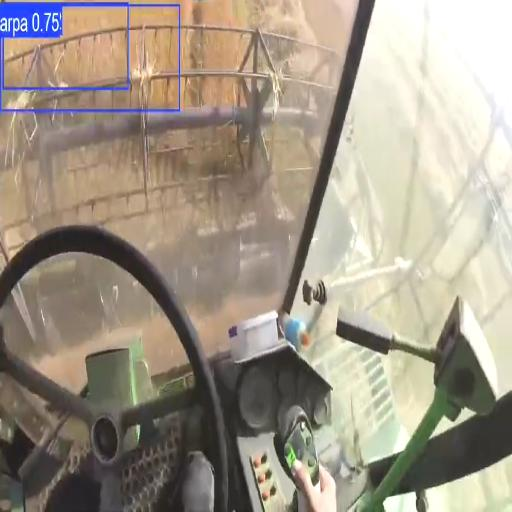arpa: (42, 29, 126, 86), (179, 27, 229, 70), (65, 7, 123, 36), (171, 0, 229, 25), (147, 28, 177, 70), (130, 7, 178, 27), (6, 54, 27, 85), (7, 40, 45, 55), (157, 81, 178, 105), (128, 30, 141, 66)
